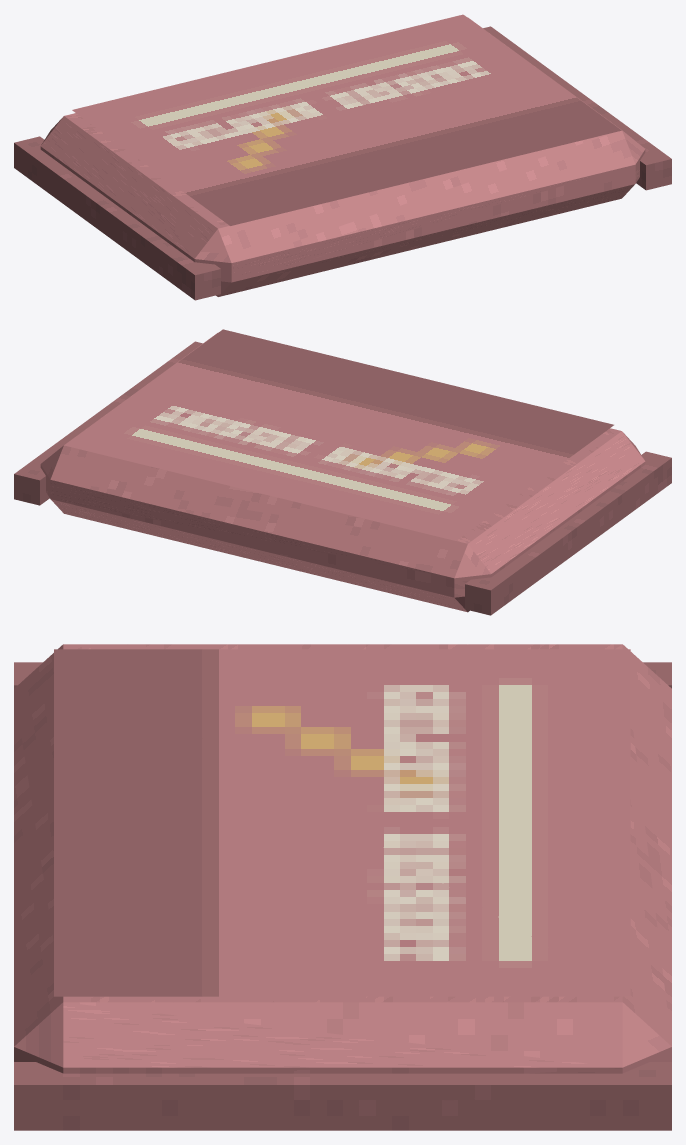
The model's file is gelatin_dessert_powder.glb.
3 renders of one model, top to bottom at view 1: azimuth 30°, elevation 25°; view 2: azimuth 150°, elevation 25°; view 3: azimuth 270°, elevation 25°, orthographic. The views are drawn at different scales.
Parts seen in each view (by area): view 1: block_printed sachet panel, block_filled laminated sachet, block_crimped closure (×2); view 2: block_printed sachet panel, block_filled laminated sachet, block_crimped closure (×2); view 3: block_printed sachet panel, block_filled laminated sachet, block_crimped closure (×2).
Part boxes in pixels (left/top/right/bottom): block_printed sachet panel: left=72, top=14, right=621, bottom=225; block_filled laminated sachet: left=40, top=17, right=645, bottom=296; block_crimped closure (×2): left=14, top=26, right=671, bottom=300; block_printed sachet panel: left=64, top=329, right=613, bottom=540; block_filled laminated sachet: left=40, top=333, right=645, bottom=612; block_crimped closure (×2): left=14, top=341, right=671, bottom=615; block_printed sachet panel: left=54, top=649, right=630, bottom=996; block_filled laminated sachet: left=14, top=644, right=671, bottom=1073; block_crimped closure (×2): left=14, top=662, right=671, bottom=1130.
Size of the model in its own units: 0.1203 by 0.017 by 0.0792.
1 material, 1 textured.
